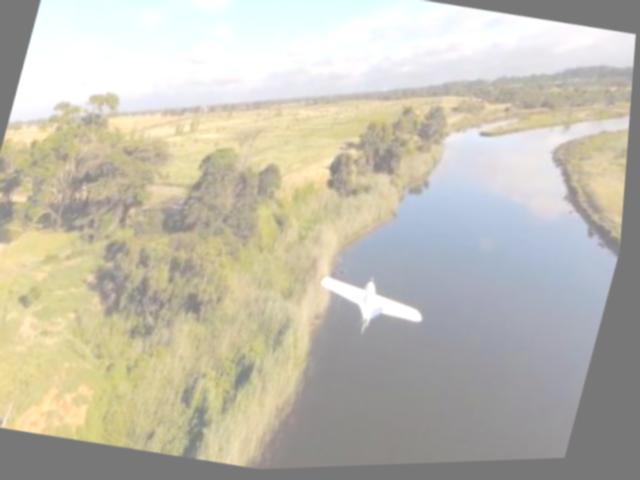uav: (312, 270, 438, 345)
